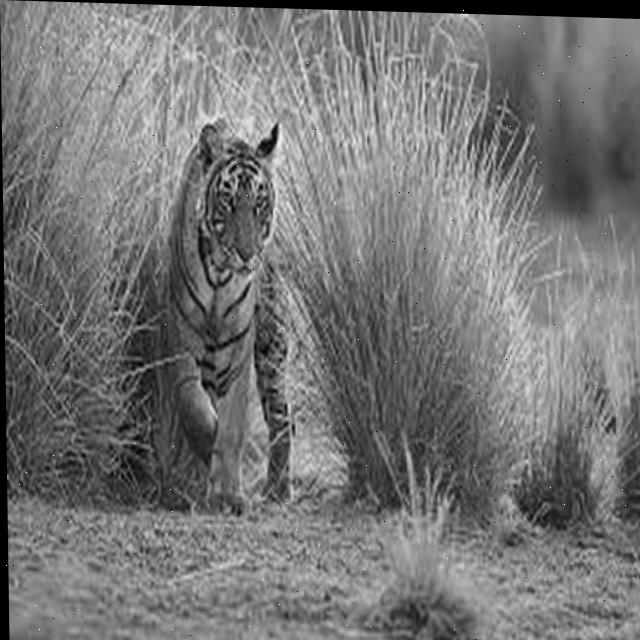Tiger: (162, 114, 295, 514)
